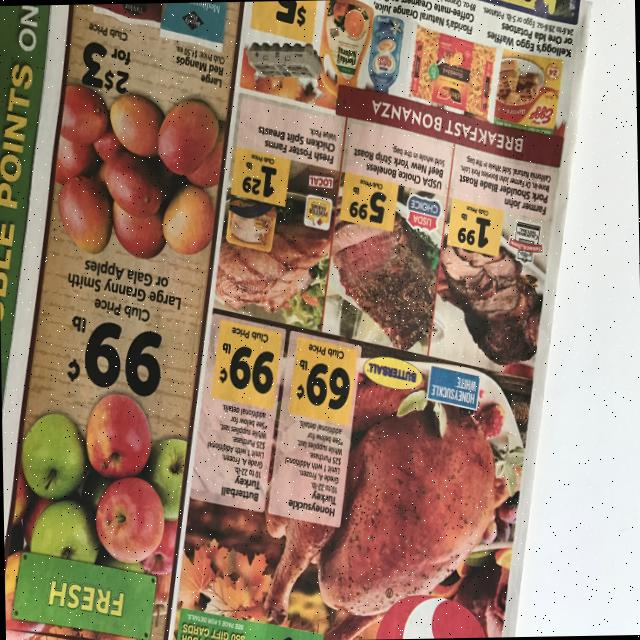paper: (0, 0, 603, 640)
